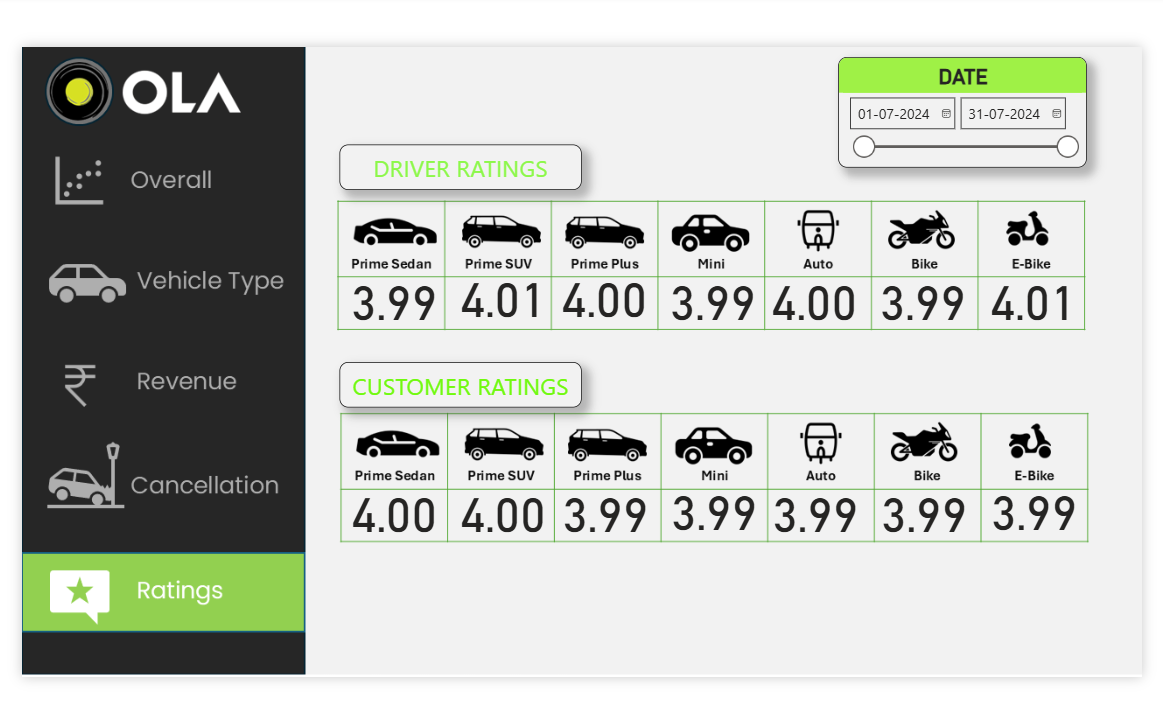

What the dashboard file says about the page in this screenshot:
{"tool":"powerbi","page":{"name":"RATINGS","canvas":[1280,720],"ordinal":4},"visuals":[{"type":"actionButton","box":[0,198.8,323.9,108],"z":0},{"type":"actionButton","box":[0,326.6,323.8,108.4],"z":1000},{"type":"actionButton","box":[0,446,323.8,108.4],"z":2000},{"type":"actionButton","box":[0,98.8,323.8,108.4],"z":3000},{"type":"card","fields":{"Values":["Avg(booking-july.Driver_Ratings)"]},"box":[362.3,241.5,124.9,85.1],"z":4000},{"type":"card","fields":{"Values":["Avg(booking-july.Driver_Ratings)"]},"box":[487.1,238.8,124.9,85.1],"z":5000},{"type":"card","fields":{"Values":["Avg(booking-july.Driver_Ratings)"]},"box":[602.4,238.8,124.9,85.1],"z":6000},{"type":"card","fields":{"Values":["Avg(booking-july.Driver_Ratings)"]},"box":[727.3,241.5,124.9,85.1],"z":7000},{"type":"card","fields":{"Values":["Avg(booking-july.Driver_Ratings)"]},"box":[842.5,241.5,124.9,85.1],"z":8000},{"type":"card","fields":{"Values":["Avg(booking-july.Driver_Ratings)"]},"box":[1092.3,241.5,124.9,85.1],"z":9000},{"type":"card","fields":{"Values":["Avg(booking-july.Driver_Ratings)"]},"box":[967.4,241.5,124.9,85.1],"z":10000},{"type":"textbox","box":[362.3,111.1,277.2,52.1],"z":11000},{"type":"textbox","box":[362.3,359.5,277.2,52.1],"z":12000},{"type":"card","fields":{"Values":["Avg(booking-july.Customer_Rating)"]},"box":[362.3,484.4,124.9,85.1],"z":13000},{"type":"card","fields":{"Values":["Avg(booking-july.Customer_Rating)"]},"box":[487.1,484.4,124.9,85.1],"z":14000},{"type":"card","fields":{"Values":["Avg(booking-july.Customer_Rating)"]},"box":[603.8,484.4,124.9,85.1],"z":15000},{"type":"card","fields":{"Values":["Avg(booking-july.Customer_Rating)"]},"box":[728.6,481.6,124.9,85.1],"z":16000},{"type":"card","fields":{"Values":["Avg(booking-july.Customer_Rating)"]},"box":[1093.7,481.6,124.9,85.1],"z":17000},{"type":"card","fields":{"Values":["Avg(booking-july.Customer_Rating)"]},"box":[843.9,484.4,124.9,85.1],"z":18000},{"type":"card","fields":{"Values":["Avg(booking-july.Customer_Rating)"]},"box":[968.8,484.4,124.9,85.1],"z":19000},{"type":"slicer","title":"DATE","fields":{"Values":["booking-july.Date"]},"box":[933.1,11,284,126.2],"z":19001}]}

Visuals, with their boxes on the page's 1280x720 design canvas (x1, y1, x2, y2). These are canvas units, not pixel positions in the 1163x725 screenshot, which may show the page scaled, cropped or inside an application window:
actionButton: [0, 199, 324, 307]
actionButton: [0, 327, 324, 435]
actionButton: [0, 446, 324, 554]
actionButton: [0, 99, 324, 207]
card - Avg(booking-july.Driver_Ratings): [362, 242, 487, 327]
card - Avg(booking-july.Driver_Ratings): [487, 239, 612, 324]
card - Avg(booking-july.Driver_Ratings): [602, 239, 727, 324]
card - Avg(booking-july.Driver_Ratings): [727, 242, 852, 327]
card - Avg(booking-july.Driver_Ratings): [842, 242, 967, 327]
card - Avg(booking-july.Driver_Ratings): [1092, 242, 1217, 327]
card - Avg(booking-july.Driver_Ratings): [967, 242, 1092, 327]
textbox: [362, 111, 640, 163]
textbox: [362, 360, 640, 412]
card - Avg(booking-july.Customer_Rating): [362, 484, 487, 570]
card - Avg(booking-july.Customer_Rating): [487, 484, 612, 570]
card - Avg(booking-july.Customer_Rating): [604, 484, 729, 570]
card - Avg(booking-july.Customer_Rating): [729, 482, 854, 567]
card - Avg(booking-july.Customer_Rating): [1094, 482, 1219, 567]
card - Avg(booking-july.Customer_Rating): [844, 484, 969, 570]
card - Avg(booking-july.Customer_Rating): [969, 484, 1094, 570]
"DATE" slicer: [933, 11, 1217, 137]
